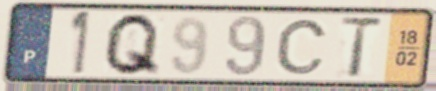1: (67, 8, 94, 79)
9: (222, 14, 266, 79), (169, 14, 214, 76)
C: (274, 17, 330, 76)
Q: (100, 11, 163, 78)
T: (337, 15, 385, 80)
